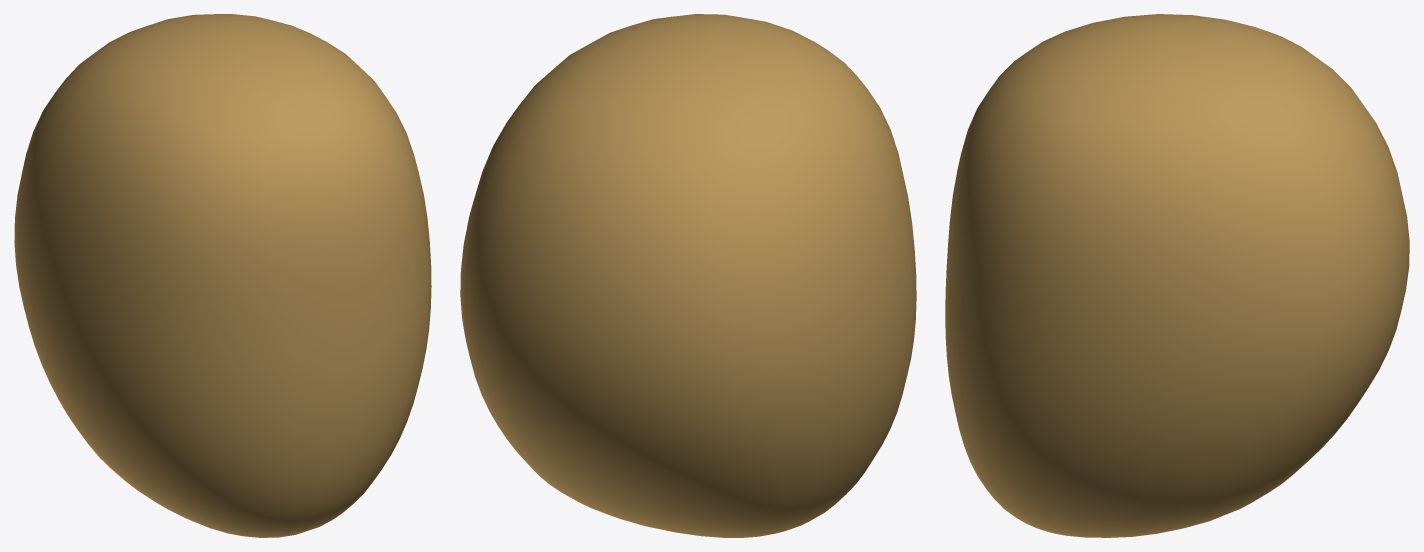
File: head_head_002.gltf
3 renders of one model, left to right at view 1: azimuth 30°, elevation 25°; view 2: azimuth 150°, elevation 25°; view 3: azimuth 270°, elevation 25°, orthographic. The views are drawn at different scales.
Visible parts, largest first — view 1: head.002; view 2: head.002; view 3: head.002.
Boxes of the visible parts, bbox=[...] form: head.002: bbox=[14, 14, 431, 537]; head.002: bbox=[460, 14, 916, 537]; head.002: bbox=[945, 14, 1409, 537].
Size of the model in its own units: 0.6202 by 0.781 by 0.6838.
